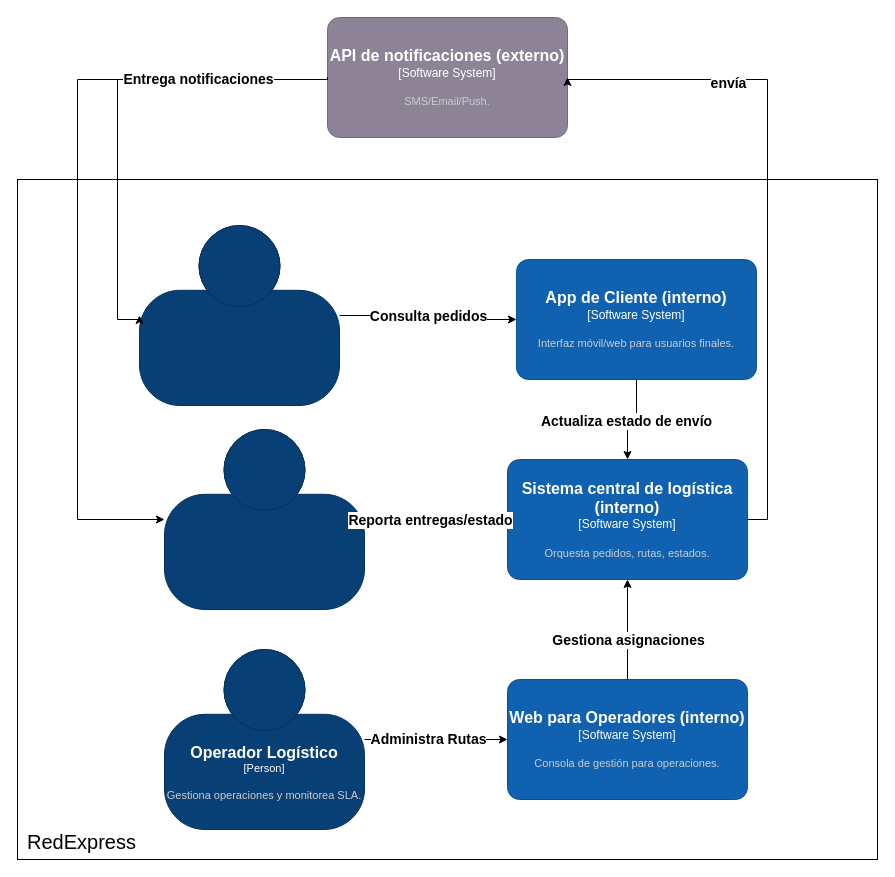
The diagram is 895 pixels wide and 877 high, and some of its shapes have lost their labels. Each missing label, with the centre of its shape:
Mensajero [Person] Reporta estado de entregas y ubicación.: pixel 264 519
Usuario Final [Person] Rastrea paquetes y recibe notificaciones.: pixel 239 315
